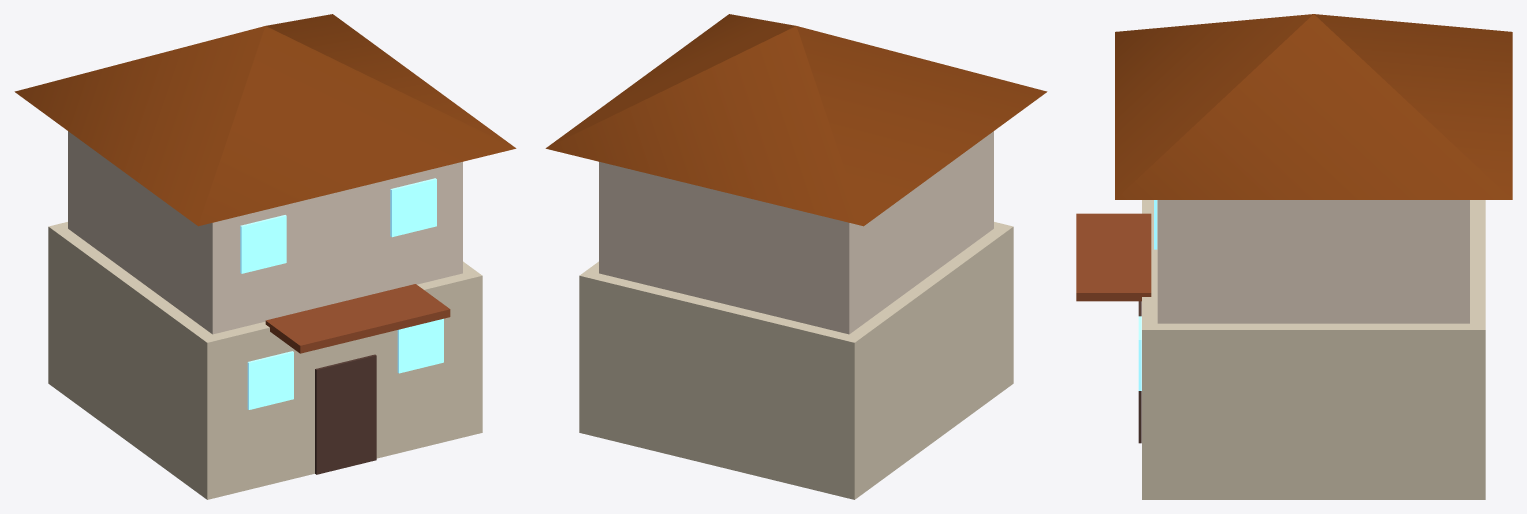
File: apartment.glb
The picture shows the model from 3 angles, left to right: view 1: azimuth 30°, elevation 25°; view 2: azimuth 150°, elevation 25°; view 3: azimuth 270°, elevation 25°; orthographic projection. The views are drawn at different scales.
Parts seen in each view (by area): view 1: middle-house; view 2: middle-house; view 3: middle-house.
Boxes of the visible parts, bbox=[...] form: middle-house: bbox=[14, 14, 516, 499]; middle-house: bbox=[545, 14, 1047, 499]; middle-house: bbox=[1076, 14, 1512, 499].
Size of the model in its own units: 6.36 by 7.3 by 6.98.
